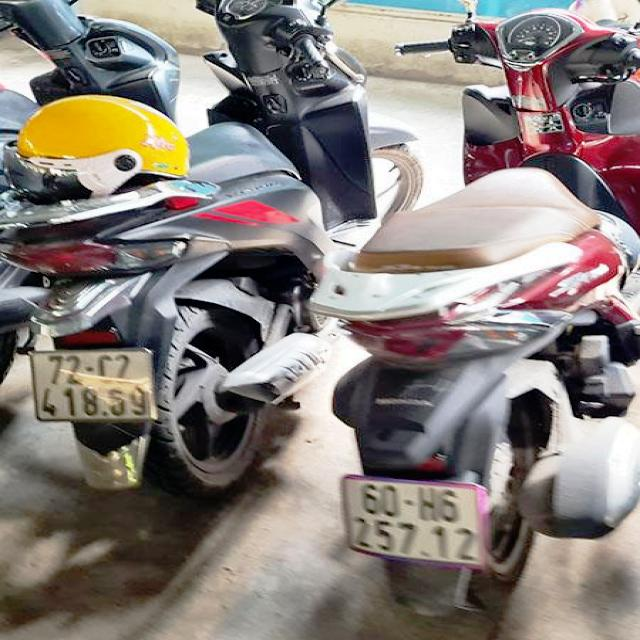license_plate: (343, 474, 482, 567), (28, 348, 160, 424)
